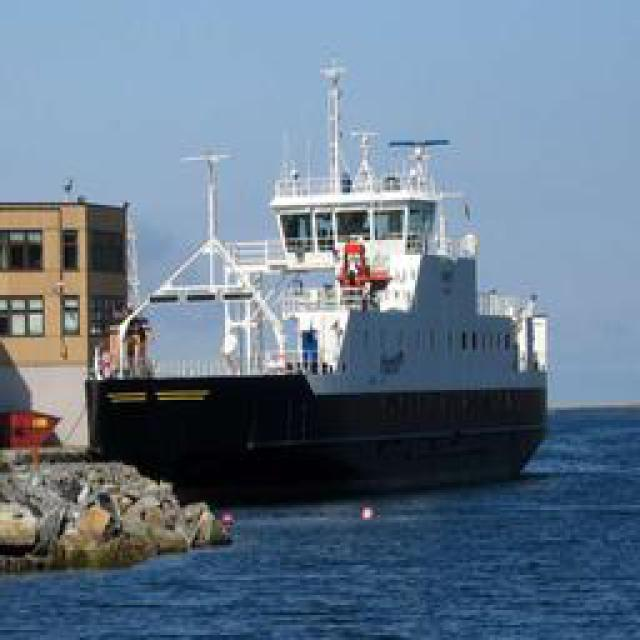Ship: (76, 68, 559, 483)
